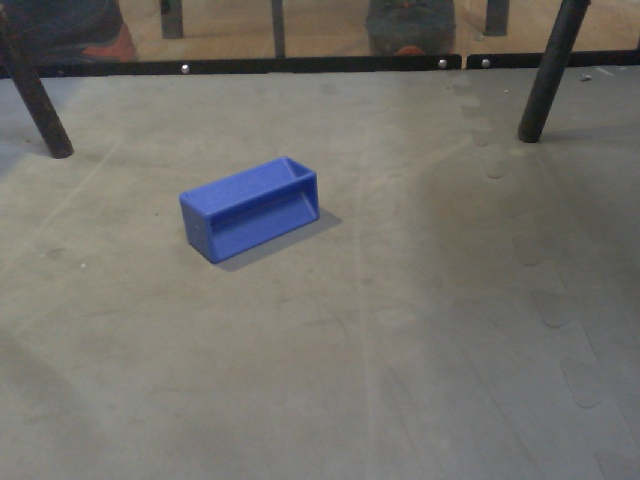BlueSample: (177, 152, 325, 267)
